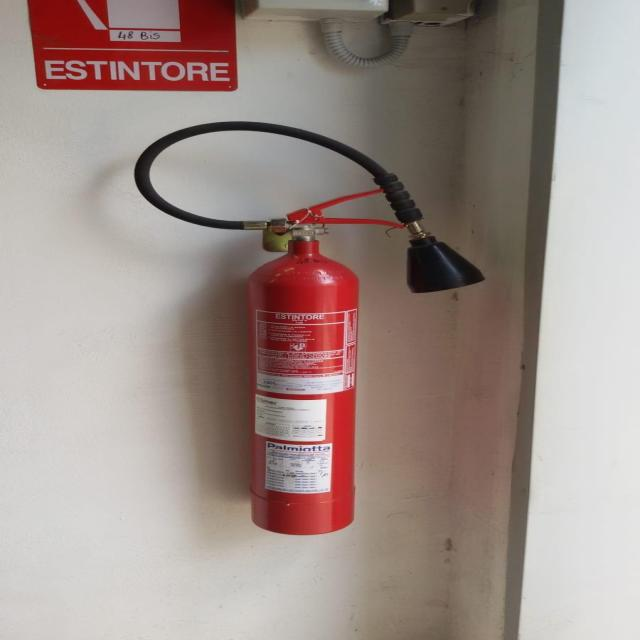fire_extinguisher: (123, 117, 493, 537)
